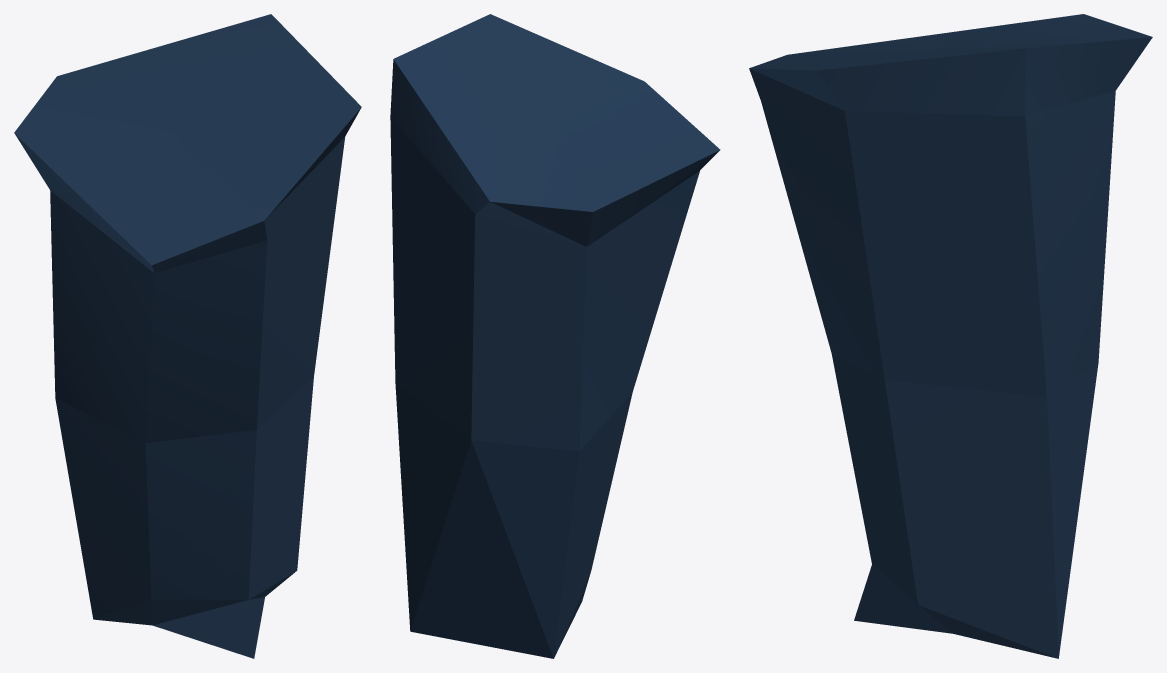
File: Knee_L_Cop.glb
3 views of the same model, side by side, from view 1: azimuth 30°, elevation 25°; view 2: azimuth 150°, elevation 25°; view 3: azimuth 270°, elevation 25° (orthographic). The views are drawn at different scales.
Visible parts, largest first — view 1: Leg_L_Cop; view 2: Leg_L_Cop; view 3: Leg_L_Cop.
Part boxes in pixels (left/top/right/bottom): Leg_L_Cop: left=14, top=14, right=361, bottom=658; Leg_L_Cop: left=390, top=14, right=720, bottom=658; Leg_L_Cop: left=749, top=14, right=1152, bottom=658.
Bounding box in the file's own units: 0.1779 × 0.4125 × 0.2405.
Materials: 1 (1 with a texture image).
